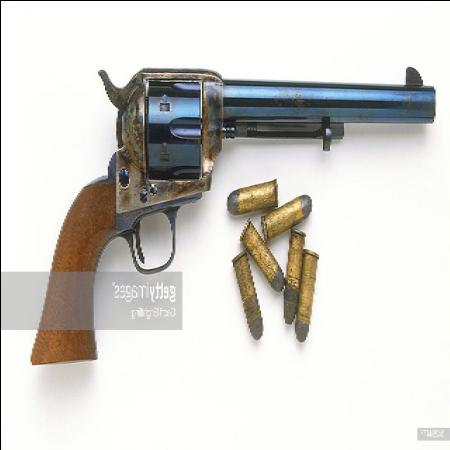Pistol: (25, 60, 440, 364)
